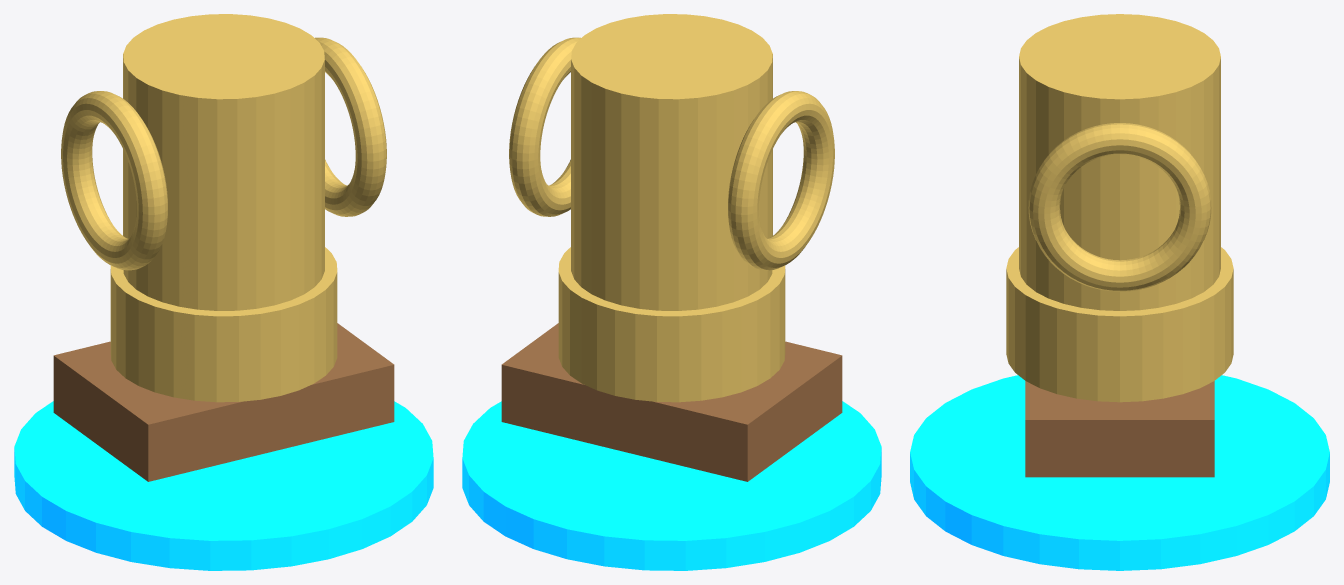
The model's file is sports_trophy.glb.
3 renders of one model, left to right at view 1: azimuth 30°, elevation 25°; view 2: azimuth 150°, elevation 25°; view 3: azimuth 270°, elevation 25°, orthographic.
Visible parts, largest first — view 1: 04_15_Popular_Sports_Trophy_part_02, 04_15_Popular_Sports_Trophy_ROOT_base, 04_15_Popular_Sports_Trophy_part_05, 04_15_Popular_Sports_Trophy_part_01, 04_15_Popular_Sports_Trophy_part_03, 04_15_Popular_Sports_Trophy_part_04; view 2: 04_15_Popular_Sports_Trophy_part_02, 04_15_Popular_Sports_Trophy_ROOT_base, 04_15_Popular_Sports_Trophy_part_05, 04_15_Popular_Sports_Trophy_part_01, 04_15_Popular_Sports_Trophy_part_03, 04_15_Popular_Sports_Trophy_part_04; view 3: 04_15_Popular_Sports_Trophy_ROOT_base, 04_15_Popular_Sports_Trophy_part_02, 04_15_Popular_Sports_Trophy_part_01, 04_15_Popular_Sports_Trophy_part_05, 04_15_Popular_Sports_Trophy_part_04.
Boxes of the visible parts, box(x1,y1,x2,y2) form: 04_15_Popular_Sports_Trophy_part_02: box(123, 14, 324, 310); 04_15_Popular_Sports_Trophy_ROOT_base: box(14, 401, 433, 570); 04_15_Popular_Sports_Trophy_part_05: box(53, 323, 394, 481); 04_15_Popular_Sports_Trophy_part_01: box(110, 247, 337, 402); 04_15_Popular_Sports_Trophy_part_03: box(61, 91, 167, 270); 04_15_Popular_Sports_Trophy_part_04: box(315, 37, 386, 216); 04_15_Popular_Sports_Trophy_part_02: box(571, 14, 772, 310); 04_15_Popular_Sports_Trophy_ROOT_base: box(462, 401, 881, 570); 04_15_Popular_Sports_Trophy_part_05: box(501, 323, 842, 481); 04_15_Popular_Sports_Trophy_part_01: box(558, 247, 785, 402); 04_15_Popular_Sports_Trophy_part_03: box(728, 91, 834, 270); 04_15_Popular_Sports_Trophy_part_04: box(509, 37, 580, 216); 04_15_Popular_Sports_Trophy_ROOT_base: box(910, 375, 1329, 570); 04_15_Popular_Sports_Trophy_part_02: box(1019, 14, 1220, 310); 04_15_Popular_Sports_Trophy_part_01: box(1006, 247, 1233, 402); 04_15_Popular_Sports_Trophy_part_05: box(1025, 381, 1214, 477); 04_15_Popular_Sports_Trophy_part_04: box(1028, 123, 1211, 291).
Size of the model in its own units: 0.76 by 0.85 by 0.76.
